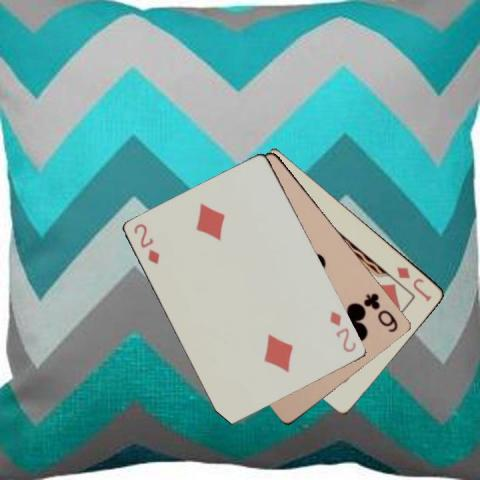2d: (327, 308, 358, 354), (131, 221, 161, 266)
6c: (361, 290, 400, 334)
Jd: (394, 264, 434, 303)
